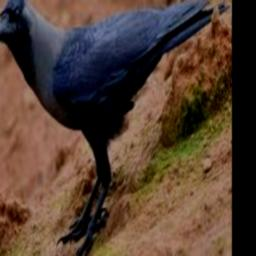Crow: (0, 0, 231, 256)
